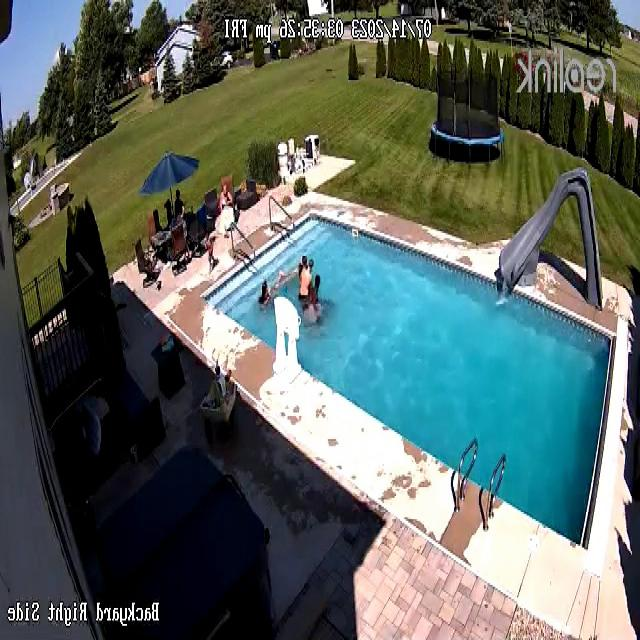adult: (308, 275, 320, 322), (300, 255, 310, 308), (258, 279, 270, 307)
child: (203, 233, 214, 274)
